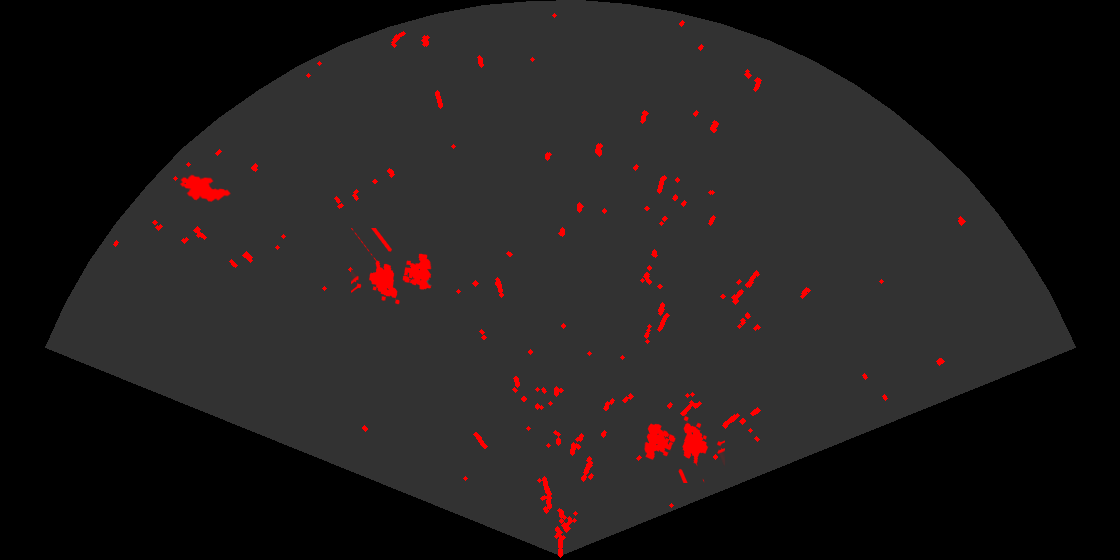AUV: (178, 173, 232, 203)
cage: (351, 228, 433, 306), (643, 414, 725, 483)
